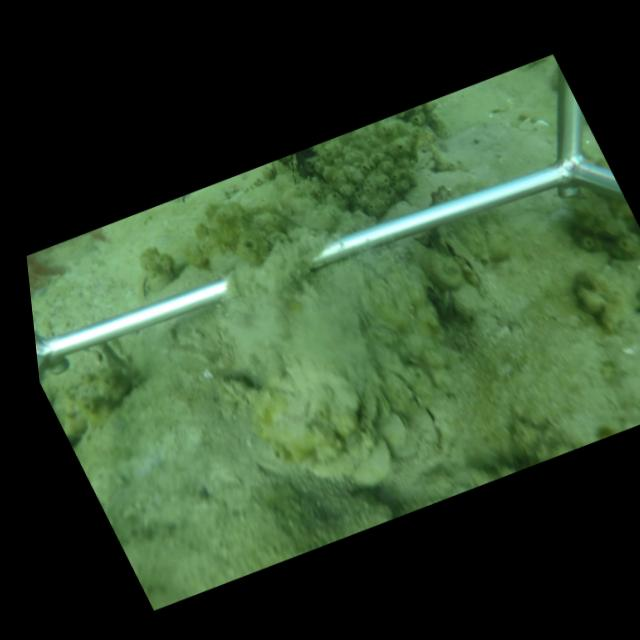Oyster-Closed: (439, 227, 499, 308), (286, 152, 307, 193)
